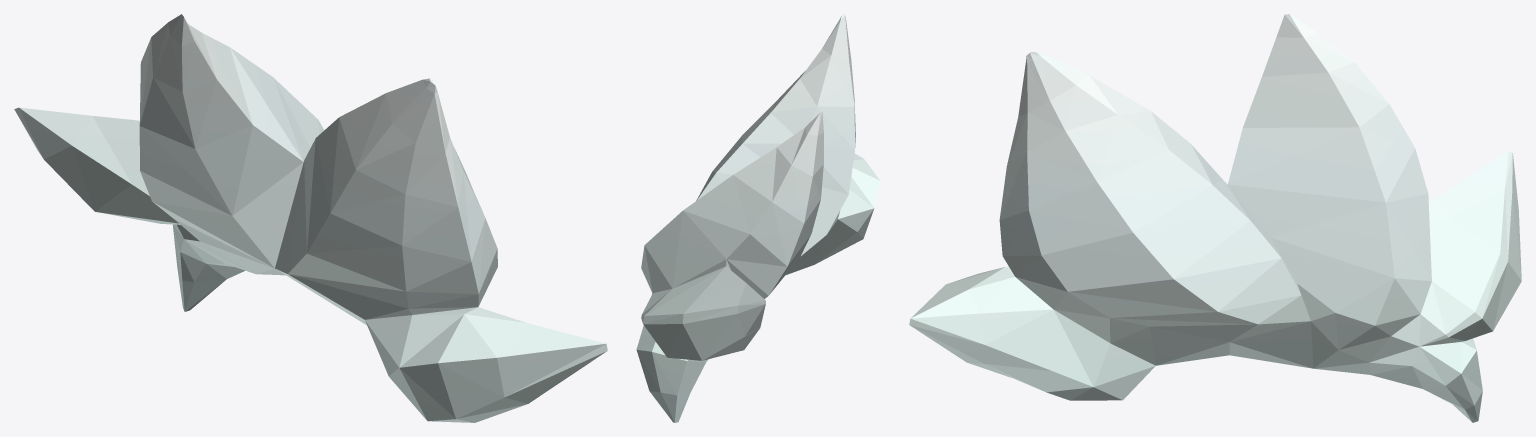
Rendered from CharSkyKid_Hair_Mohawk.glb.
3 renders of one model, left to right at view 1: azimuth 30°, elevation 25°; view 2: azimuth 150°, elevation 25°; view 3: azimuth 270°, elevation 25°, orthographic. The views are drawn at different scales.
Parts seen in each view (by area): view 1: CharSkyKid_Hair_Mohawk; view 2: CharSkyKid_Hair_Mohawk; view 3: CharSkyKid_Hair_Mohawk.
Part boxes in pixels (x1,y1,x2,y2): CharSkyKid_Hair_Mohawk: (14,14,607,422); CharSkyKid_Hair_Mohawk: (636,14,880,422); CharSkyKid_Hair_Mohawk: (909,14,1521,422).
Size of the model in its own units: 1.76 by 2.57 by 3.85.
Materials: 1 (1 with a texture image).
